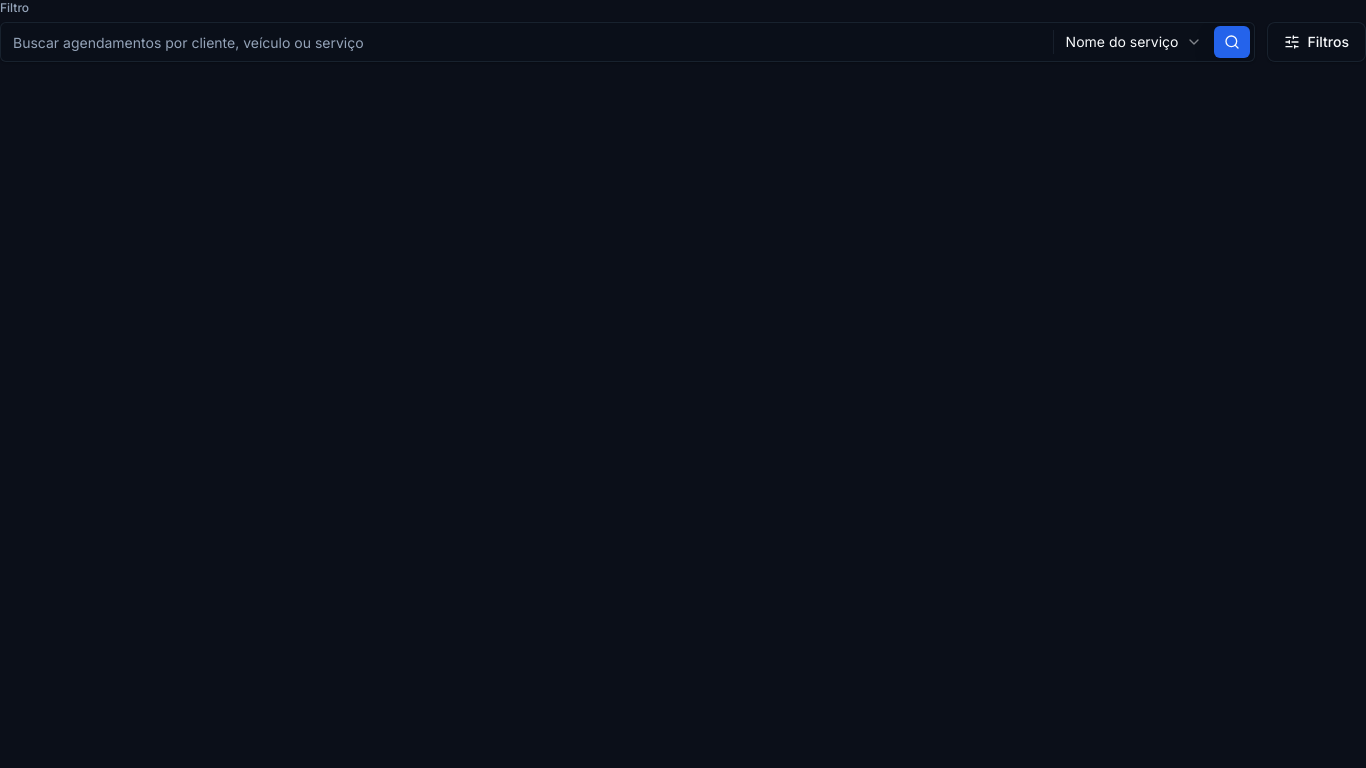
Test case: AgendaAppointmentsToolbar › disables the clear filters button when filters are already default
The width and height of the screenshot is (1366, 768).
Click the button "Filtros": [1316, 42] box [1267,22,1365,62]
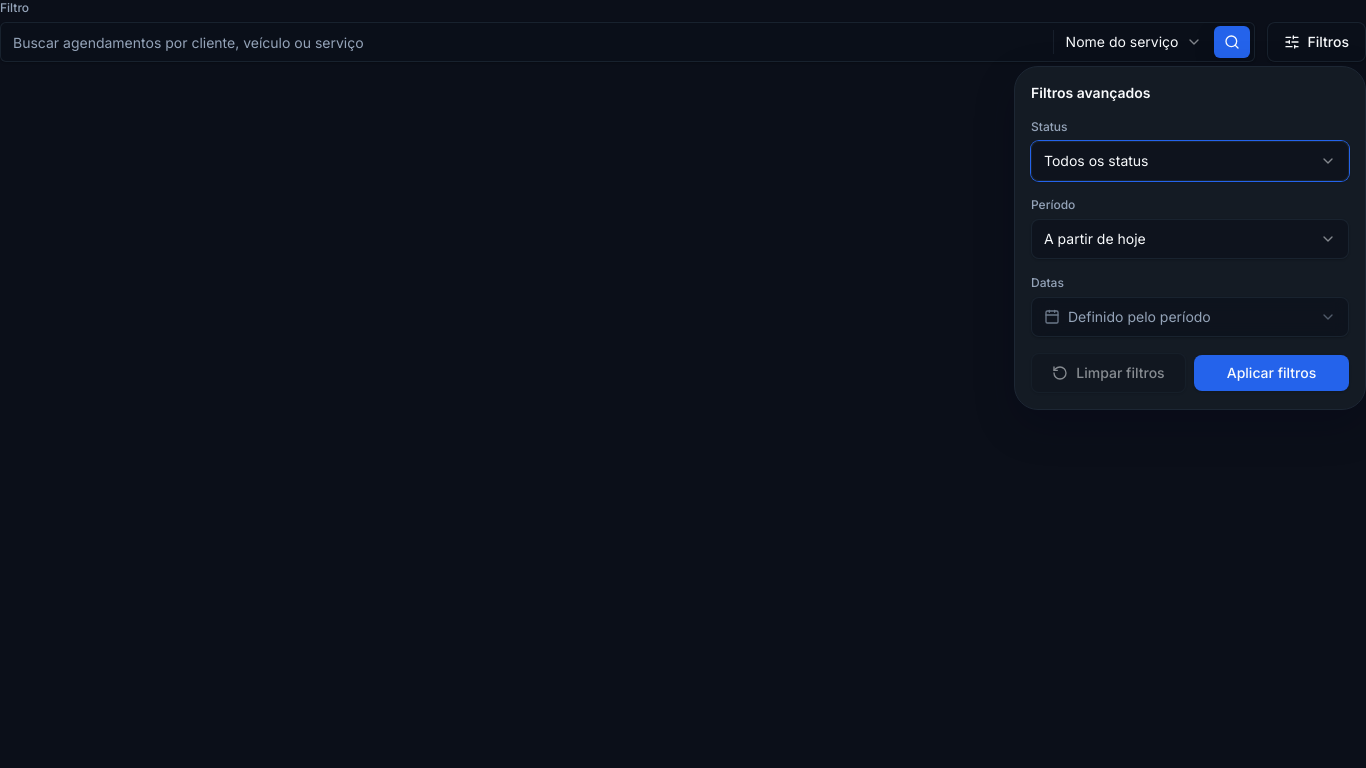
Check: the button "Limpar filtros" is disabled, box [1031,353,1186,393]
